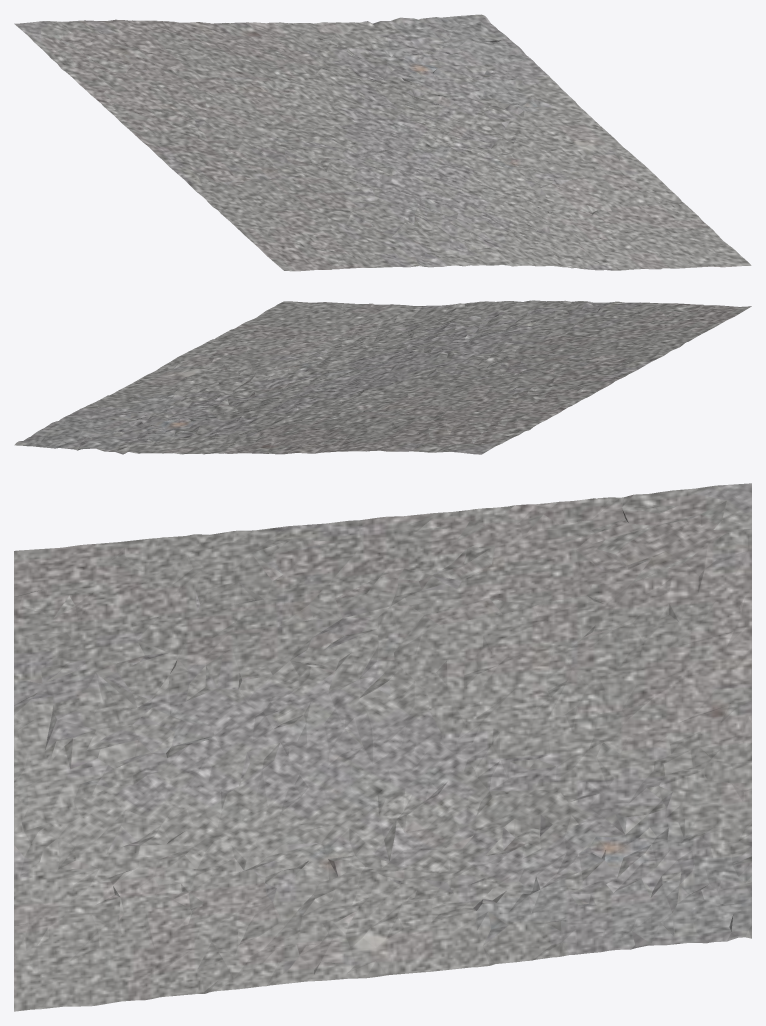
The picture shows the model from 3 angles, top to bottom: view 1: azimuth 30°, elevation 25°; view 2: azimuth 150°, elevation 25°; view 3: azimuth 270°, elevation 25°; orthographic projection. The views are drawn at different scales.
Size of the model in its own units: 1.67 by 0.542 by 1.67.
Materials: 3 (3 with a texture image).
